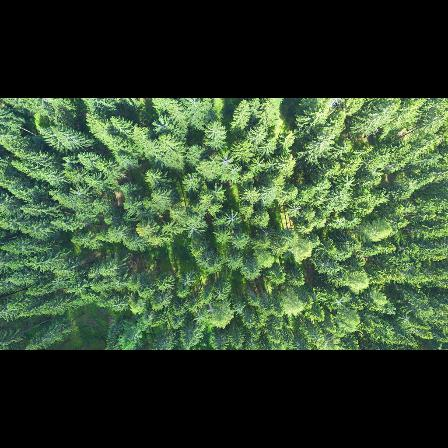Sick: (181, 219, 203, 241), (67, 182, 92, 201), (216, 148, 235, 169), (222, 209, 243, 228), (328, 292, 350, 309), (179, 270, 198, 289), (226, 161, 245, 179), (251, 155, 268, 172), (286, 200, 303, 217), (232, 301, 249, 318), (338, 174, 357, 189), (192, 309, 210, 324), (395, 312, 413, 326)
